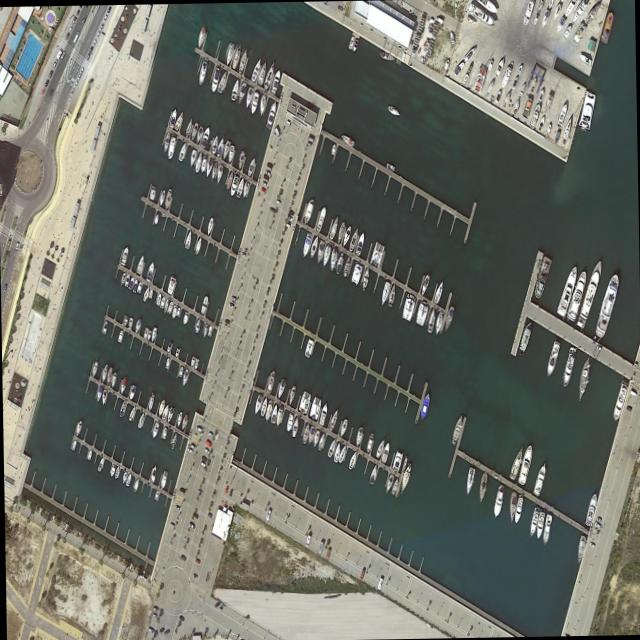large-vehicle: (71, 29, 79, 43), (54, 46, 62, 59), (433, 14, 443, 23), (628, 388, 636, 397)
ship: (574, 256, 603, 330), (593, 269, 619, 339), (555, 262, 578, 317), (565, 267, 587, 321), (574, 352, 591, 402), (531, 254, 550, 298), (610, 377, 628, 423), (467, 1, 495, 28), (516, 441, 533, 485), (577, 88, 595, 129), (560, 343, 576, 388), (544, 337, 560, 377), (507, 442, 523, 481), (516, 318, 532, 356), (531, 459, 547, 496), (599, 8, 613, 44), (583, 490, 597, 526), (491, 482, 504, 518), (261, 58, 275, 91), (449, 412, 463, 445), (569, 0, 587, 25), (400, 292, 415, 322), (368, 239, 384, 267), (559, 114, 572, 147), (301, 195, 315, 225), (398, 462, 412, 492), (264, 97, 277, 129), (471, 66, 486, 93), (527, 505, 539, 538), (520, 0, 534, 28), (413, 299, 427, 327), (195, 56, 208, 86), (584, 0, 600, 24), (442, 303, 455, 332), (418, 389, 430, 420), (540, 512, 551, 545), (512, 492, 523, 524), (476, 471, 487, 503), (208, 64, 220, 93), (349, 260, 362, 286), (236, 46, 248, 74), (327, 212, 339, 240), (347, 224, 359, 252), (378, 279, 390, 307), (230, 40, 241, 70), (574, 533, 585, 563), (534, 506, 544, 539), (463, 465, 474, 495), (297, 389, 310, 414), (555, 100, 567, 127), (249, 55, 261, 82), (314, 204, 326, 231), (215, 68, 227, 94), (432, 277, 444, 303), (308, 395, 320, 420), (572, 21, 585, 44), (269, 68, 280, 95), (300, 231, 311, 258), (492, 56, 504, 80), (418, 272, 430, 296), (390, 448, 402, 472), (256, 59, 267, 85), (165, 132, 175, 160), (425, 305, 435, 333), (499, 65, 511, 88), (520, 95, 532, 118), (529, 101, 540, 126), (235, 80, 246, 105), (307, 233, 318, 258), (340, 223, 351, 248), (354, 229, 364, 256), (386, 281, 396, 308), (195, 25, 206, 49), (199, 124, 210, 148), (242, 85, 253, 109), (248, 89, 258, 115), (320, 242, 330, 268), (335, 218, 345, 244), (542, 91, 553, 114), (462, 45, 476, 63), (433, 309, 442, 337), (228, 172, 238, 197), (265, 368, 275, 393), (224, 41, 234, 66), (508, 490, 516, 521), (328, 245, 337, 272), (538, 8, 549, 30), (172, 108, 183, 130), (337, 416, 348, 438), (229, 76, 239, 100), (328, 407, 338, 431), (314, 239, 324, 263), (144, 258, 154, 282), (162, 186, 172, 210), (334, 249, 343, 275), (360, 265, 369, 291), (252, 392, 262, 415), (167, 105, 177, 128), (377, 49, 394, 62), (275, 377, 285, 399), (550, 1, 561, 21), (176, 140, 186, 162), (220, 138, 230, 160), (383, 472, 393, 494), (374, 437, 384, 459), (325, 437, 336, 457), (527, 73, 538, 93), (134, 252, 144, 274), (290, 414, 299, 438), (193, 149, 202, 173), (380, 439, 389, 463), (318, 401, 327, 425), (341, 254, 350, 278), (193, 124, 203, 145), (339, 132, 354, 146), (353, 425, 363, 446), (165, 274, 175, 295), (386, 102, 400, 117), (554, 15, 565, 34), (274, 405, 283, 428), (286, 383, 295, 406), (263, 398, 272, 421), (300, 421, 309, 444), (367, 462, 376, 485), (234, 175, 243, 198), (452, 59, 464, 76), (258, 395, 267, 417), (215, 135, 224, 157), (214, 163, 223, 185), (364, 431, 373, 453), (347, 448, 356, 470), (224, 168, 233, 190), (246, 154, 255, 176), (236, 149, 245, 171), (119, 243, 128, 265), (284, 411, 293, 432), (183, 116, 192, 137), (189, 120, 198, 141), (208, 160, 217, 181), (389, 475, 398, 496), (99, 362, 108, 383), (150, 418, 159, 439), (257, 93, 265, 116), (577, 52, 591, 65), (187, 148, 196, 168), (203, 157, 212, 177), (337, 443, 346, 463), (511, 95, 520, 115), (199, 294, 208, 314), (179, 367, 188, 387), (158, 469, 167, 489), (117, 397, 126, 417), (162, 130, 170, 152), (210, 132, 218, 154), (332, 440, 340, 462), (104, 364, 112, 386), (73, 418, 82, 437), (561, 22, 571, 39), (484, 78, 494, 95), (269, 402, 277, 423), (226, 143, 234, 164), (306, 424, 314, 445), (193, 234, 201, 255), (156, 397, 164, 418), (311, 428, 319, 448), (316, 431, 324, 451), (241, 179, 249, 199), (205, 215, 213, 235), (183, 229, 191, 249), (118, 374, 126, 394), (146, 391, 154, 411), (501, 89, 510, 106), (132, 317, 141, 334), (157, 187, 165, 206), (169, 430, 177, 449), (160, 401, 168, 420), (536, 113, 544, 131), (147, 184, 156, 200), (141, 284, 149, 302), (179, 412, 187, 430), (165, 405, 173, 423), (90, 359, 98, 377), (109, 370, 117, 388), (94, 384, 102, 402), (127, 382, 135, 400), (136, 410, 144, 428), (346, 33, 354, 50), (127, 404, 135, 421), (199, 154, 206, 173), (149, 463, 156, 482), (517, 81, 525, 97), (131, 476, 139, 492), (175, 409, 182, 427), (193, 316, 200, 333), (149, 326, 156, 343), (536, 87, 543, 103), (350, 38, 358, 52), (96, 455, 103, 471), (493, 88, 500, 103), (158, 293, 165, 308), (166, 299, 173, 314), (126, 274, 133, 289), (124, 471, 131, 486), (162, 296, 168, 313), (510, 75, 517, 89), (108, 463, 115, 477), (170, 303, 176, 319), (201, 322, 207, 338), (119, 270, 125, 286), (123, 271, 129, 287), (101, 318, 107, 334), (100, 388, 106, 404), (515, 62, 522, 75), (531, 12, 538, 25), (442, 57, 449, 70), (154, 292, 161, 305), (384, 162, 394, 171), (448, 29, 454, 44), (181, 310, 187, 325), (131, 277, 137, 292), (160, 424, 166, 439), (163, 355, 169, 369), (135, 279, 141, 293), (120, 470, 126, 484), (113, 464, 118, 480), (486, 58, 492, 71), (553, 129, 559, 142), (205, 323, 211, 336), (188, 354, 194, 367), (116, 328, 122, 341), (329, 142, 335, 154), (461, 71, 467, 83), (165, 340, 171, 352), (152, 212, 158, 224), (152, 488, 158, 500), (85, 448, 91, 460), (70, 438, 76, 450), (142, 325, 147, 339), (145, 329, 151, 340), (177, 364, 182, 377), (126, 316, 131, 329), (545, 122, 551, 132), (193, 357, 198, 369), (122, 314, 127, 326), (174, 305, 179, 316), (147, 287, 152, 298), (173, 347, 178, 356), (422, 44, 426, 51), (419, 56, 422, 62)
small-vehicle: (203, 438, 211, 447), (51, 57, 57, 68), (593, 519, 600, 528), (213, 599, 220, 608), (80, 13, 86, 23), (59, 49, 65, 59), (97, 21, 103, 31), (198, 459, 205, 467), (187, 521, 194, 529), (162, 627, 169, 635), (39, 85, 45, 94), (42, 77, 48, 86), (46, 68, 52, 77), (70, 14, 76, 23), (105, 4, 111, 13), (101, 13, 107, 22), (90, 37, 96, 46), (13, 240, 18, 250), (67, 22, 72, 32), (78, 64, 83, 74), (185, 446, 192, 453), (178, 486, 185, 493), (268, 206, 275, 213), (229, 294, 236, 301), (178, 553, 185, 560), (200, 453, 206, 461), (217, 603, 223, 611), (263, 168, 269, 176), (285, 213, 291, 221), (227, 487, 232, 496), (69, 86, 74, 95), (64, 30, 69, 39), (189, 443, 195, 450), (588, 540, 594, 547), (147, 626, 153, 633), (195, 424, 201, 431), (227, 301, 233, 308), (158, 625, 164, 632), (193, 557, 199, 564), (265, 161, 271, 168), (274, 198, 280, 205), (2, 282, 6, 292), (267, 143, 272, 151), (192, 510, 197, 518), (191, 571, 196, 579), (94, 30, 99, 38), (87, 44, 92, 52), (84, 52, 89, 60), (75, 72, 80, 80), (196, 488, 202, 494), (224, 483, 228, 492), (305, 140, 311, 146), (173, 504, 179, 510), (177, 614, 183, 620), (262, 173, 268, 179), (73, 78, 77, 87), (151, 611, 156, 618), (203, 446, 208, 453), (207, 430, 212, 437), (261, 179, 266, 186), (240, 250, 245, 257), (206, 511, 211, 518), (595, 515, 600, 521), (259, 186, 264, 192), (75, 7, 79, 14), (152, 606, 157, 611), (223, 318, 228, 323)
